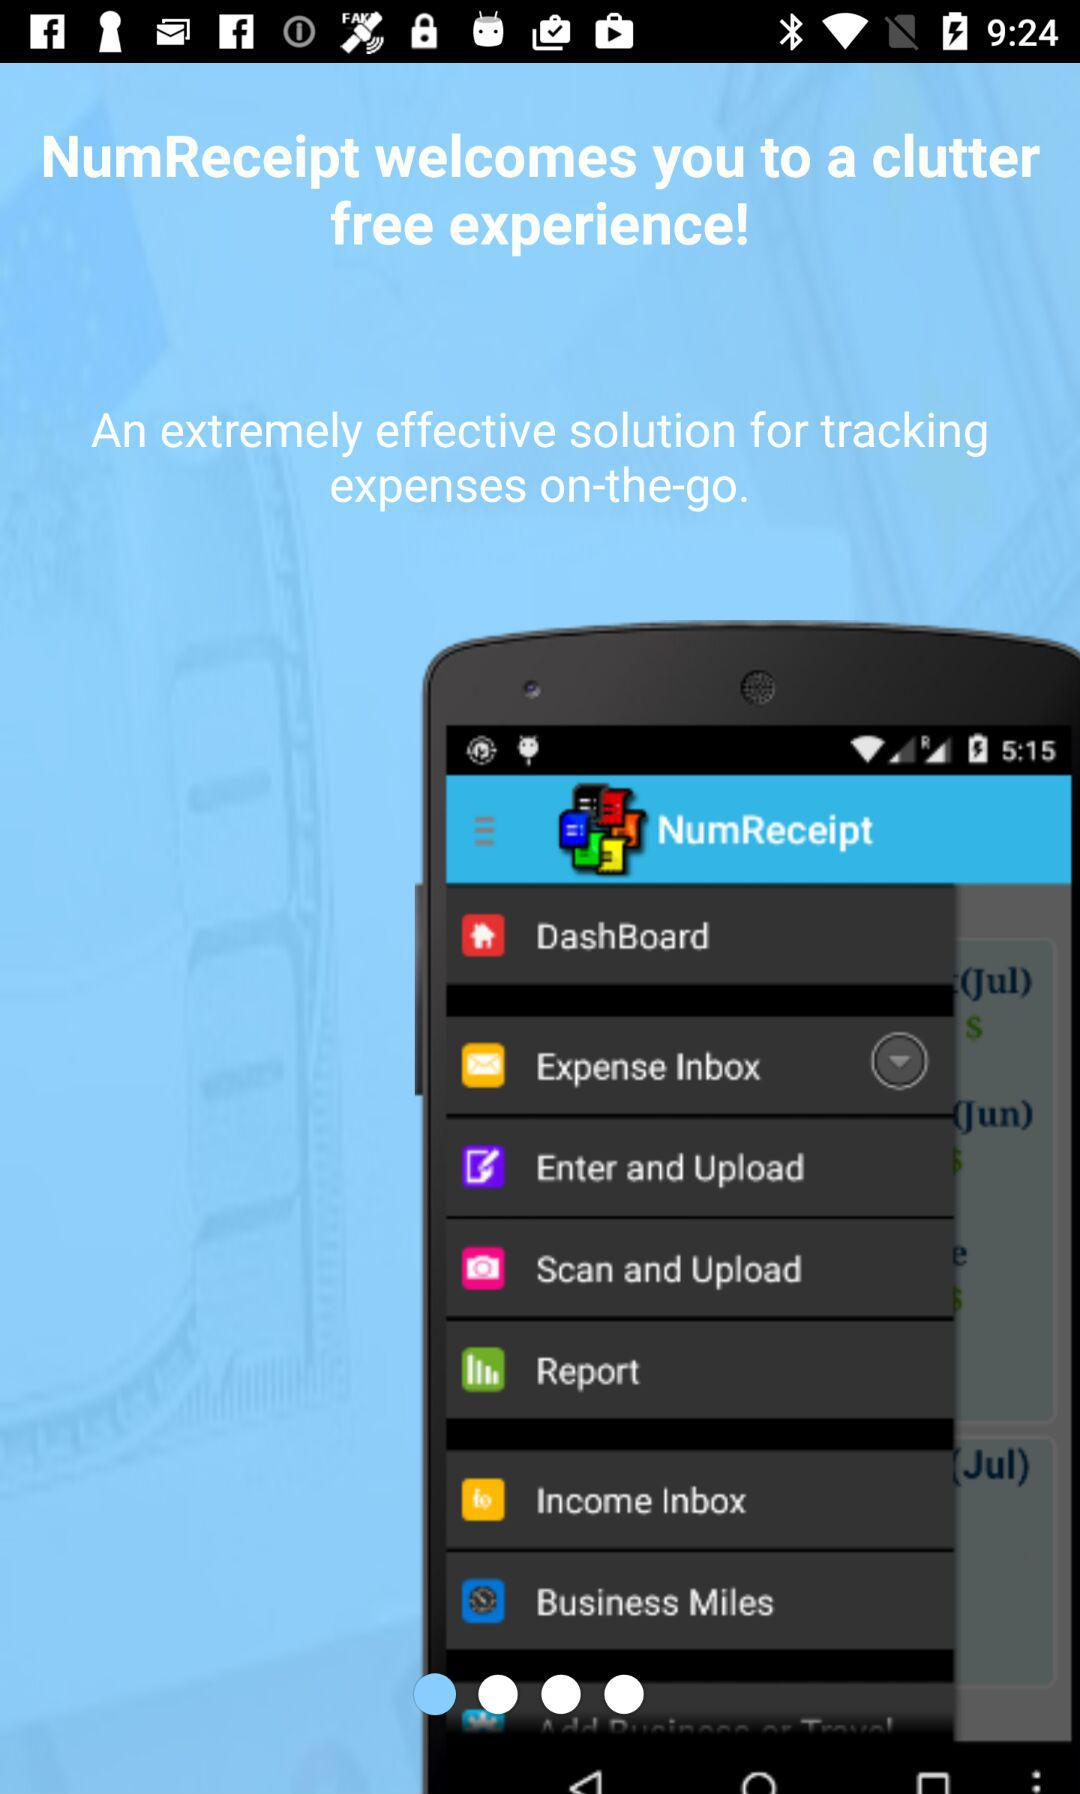Image: (413, 616, 1080, 1794)
PageIndicator: (411, 1670, 647, 1718)
Text: (42, 131, 1043, 261), (88, 409, 990, 516)
UpperTaskBar: (1, 1, 1080, 64)
